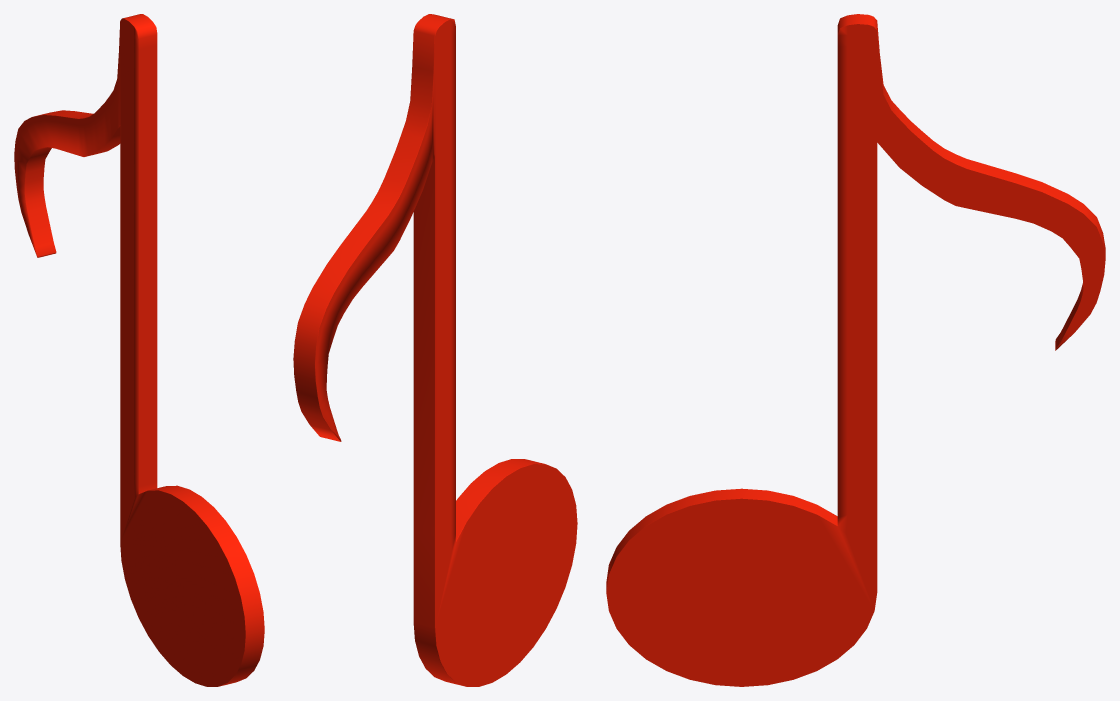
Rendered from musicNotes_04.fbx.
The picture shows the model from 3 angles, left to right: view 1: azimuth 30°, elevation 25°; view 2: azimuth 150°, elevation 25°; view 3: azimuth 270°, elevation 25°; orthographic projection. The views are drawn at different scales.
Visible parts, largest first — view 1: Cylinder.003; view 2: Cylinder.003; view 3: Cylinder.003.
Boxes of the visible parts, left/top/right/bottom form: Cylinder.003: left=14, top=14, right=264, bottom=686; Cylinder.003: left=293, top=14, right=577, bottom=686; Cylinder.003: left=606, top=14, right=1105, bottom=686.
Bounding box in the file's own units: 1.83 × 56.64 × 38.66.
